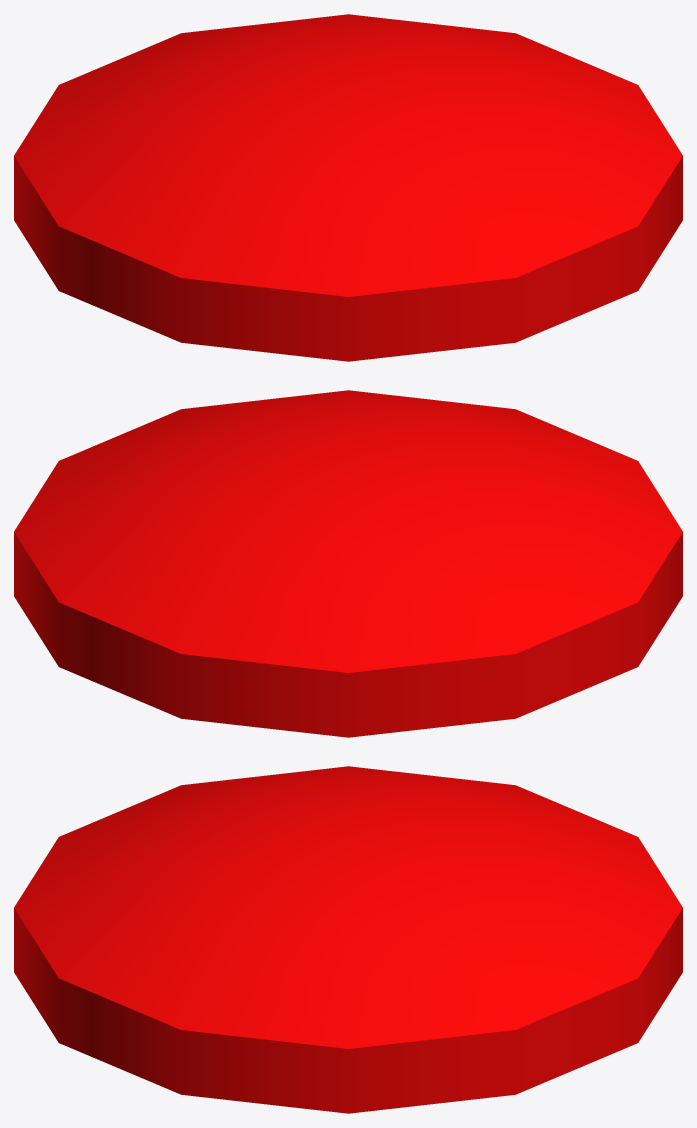
The model's file is Pickup Marker.FBX.
3 views of the same model, one above another, from view 1: azimuth 30°, elevation 25°; view 2: azimuth 150°, elevation 25°; view 3: azimuth 270°, elevation 25° (orthographic).
Visible parts, largest first — view 1: OilTank001; view 2: OilTank001; view 3: OilTank001.
Boxes of the visible parts, bbox=[...] form: OilTank001: bbox=[14, 14, 682, 361]; OilTank001: bbox=[14, 390, 682, 737]; OilTank001: bbox=[14, 766, 682, 1113].
Size of the model in its own units: 3.43 by 0.7945 by 3.43.
